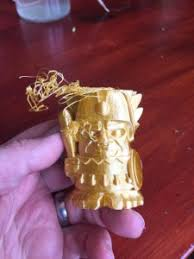fail: (16, 62, 101, 115), (57, 117, 109, 155)
